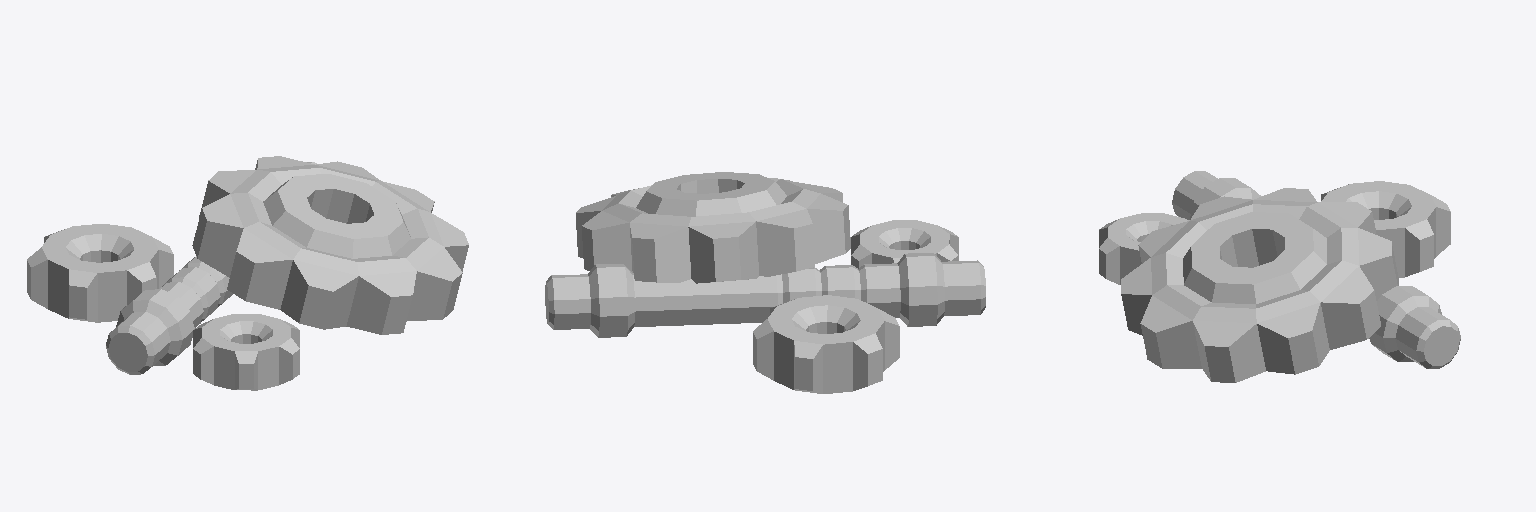
File: Parts_Pile_Small.obj
3 views of the same model, side by side, from view 1: azimuth 30°, elevation 25°; view 2: azimuth 150°, elevation 25°; view 3: azimuth 270°, elevation 25° (orthographic).
Parts seen in each view (by area): view 1: Parts_Pile_Small; view 2: Parts_Pile_Small; view 3: Parts_Pile_Small.
Boxes of the visible parts, box(x1,y1,x2,y2) form: Parts_Pile_Small: box(27, 156, 468, 390); Parts_Pile_Small: box(545, 172, 985, 393); Parts_Pile_Small: box(1099, 171, 1460, 382).
Bounding box in the file's own units: 1.16 × 0.3344 × 0.9909.